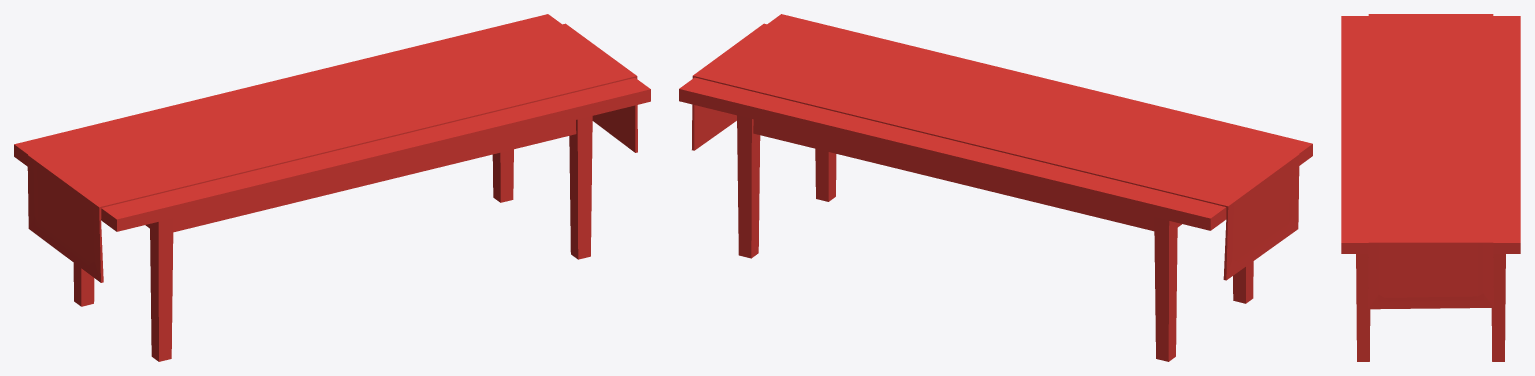
File: SM_Table_Dinner_Christmas.fbx
3 views of the same model, side by side, from view 1: azimuth 30°, elevation 25°; view 2: azimuth 150°, elevation 25°; view 3: azimuth 270°, elevation 25° (orthographic). The views are drawn at different scales.
Visible parts, largest first — view 1: table-dinner-christmas; view 2: table-dinner-christmas; view 3: table-dinner-christmas.
Boxes of the visible parts, left/top/right/bottom form: table-dinner-christmas: left=14, top=14, right=650, bottom=361; table-dinner-christmas: left=679, top=14, right=1312, bottom=361; table-dinner-christmas: left=1341, top=14, right=1520, bottom=361.
Bounding box in the file's own units: 3.03 × 0.8824 × 1.
